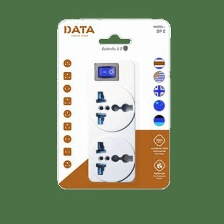book: (51, 16, 174, 191)
three_eye_plug: (84, 54, 136, 183)
